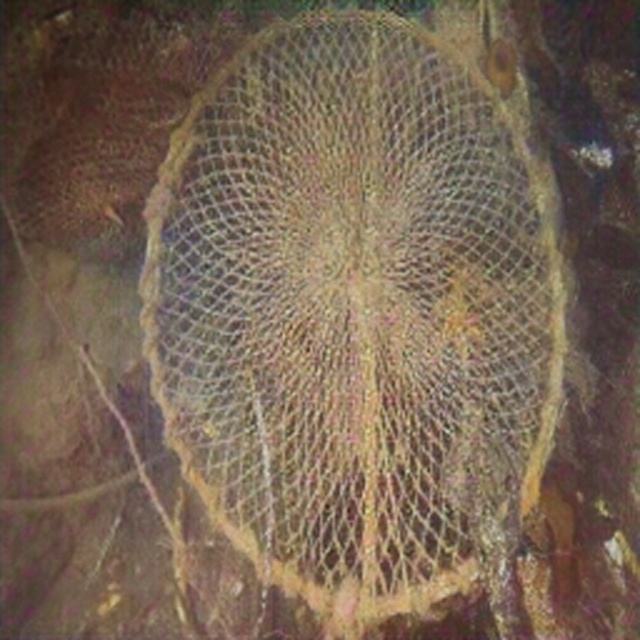mine: (139, 7, 566, 624), (0, 0, 242, 258)
